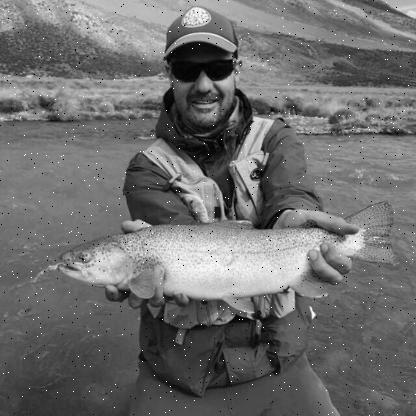fish: (56, 198, 401, 312)
